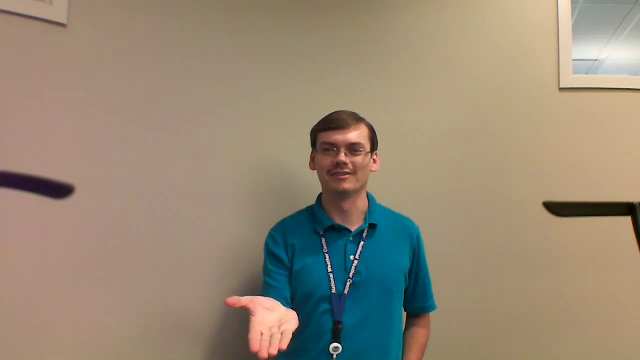land: (222, 288, 305, 360)
